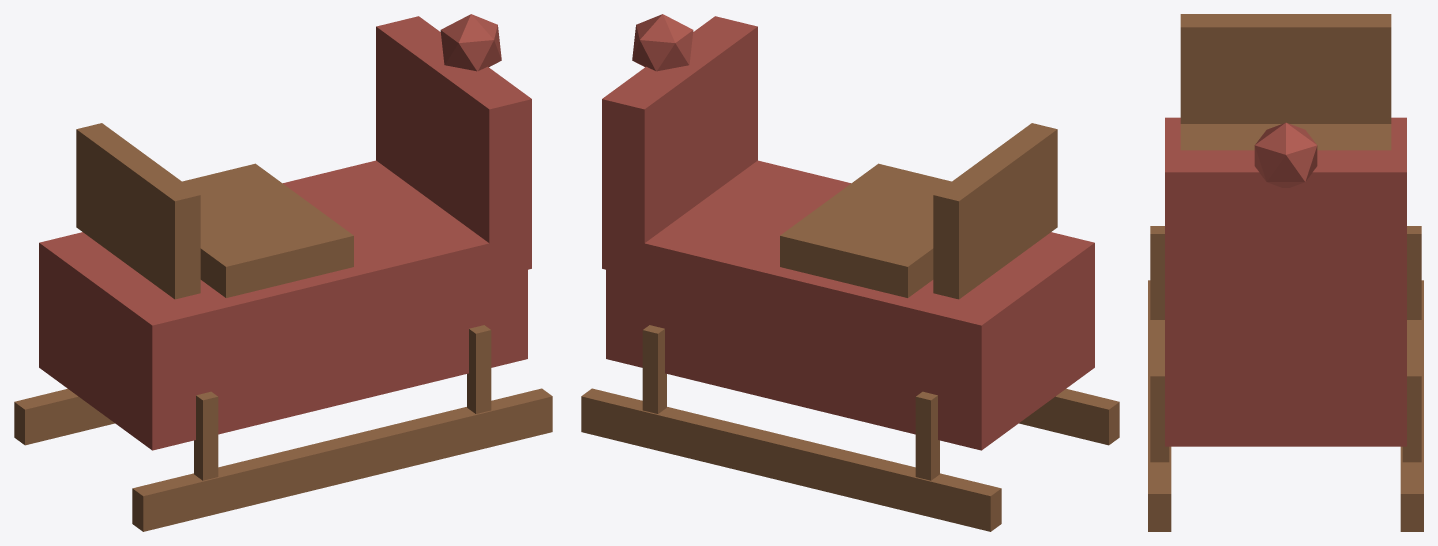
The model's file is sleigh.fbx.
The picture shows the model from 3 angles, left to right: view 1: azimuth 30°, elevation 25°; view 2: azimuth 150°, elevation 25°; view 3: azimuth 270°, elevation 25°; orthographic projection. The views are drawn at different scales.
Parts seen in each view (by area): view 1: sleigh; view 2: sleigh; view 3: sleigh.
Boxes of the visible parts, box(x1,y1,x2,y2) form: sleigh: box(14, 14, 552, 531); sleigh: box(581, 14, 1119, 531); sleigh: box(1148, 14, 1423, 531).
Bounding box in the file's own units: 1500 × 1282 × 800.
